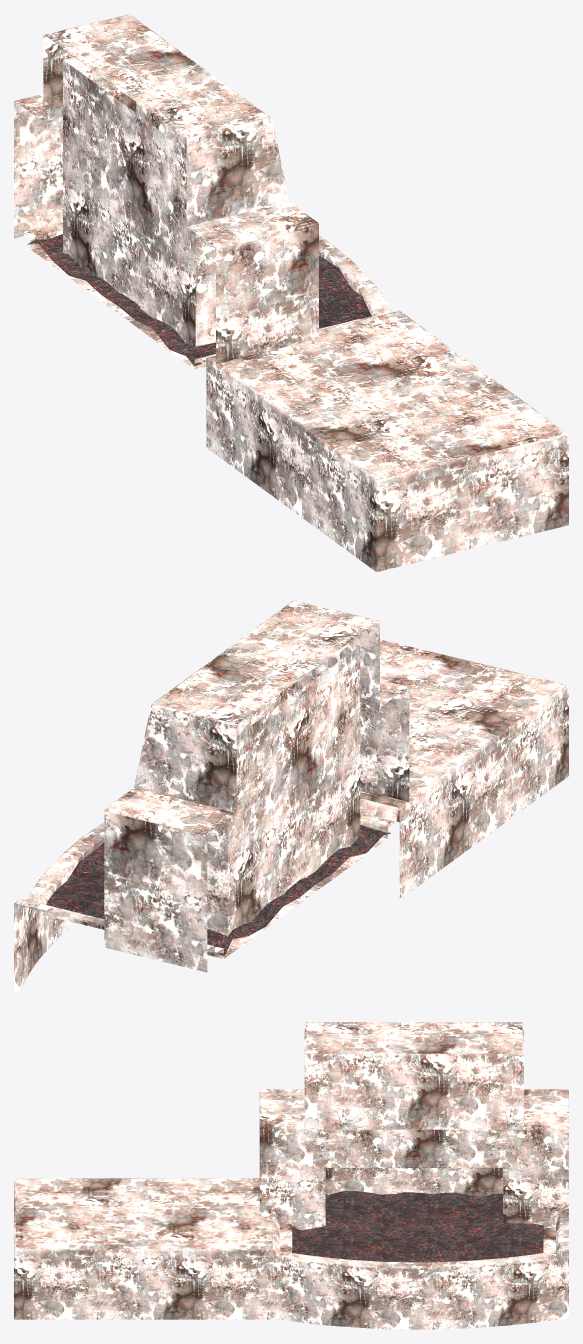
The model's file is SM_blacksmith_fireplace_01.fbx.
3 renders of one model, top to bottom at view 1: azimuth 30°, elevation 25°; view 2: azimuth 150°, elevation 25°; view 3: azimuth 270°, elevation 25°, orthographic. The views are drawn at different scales.
Visible parts, largest first — view 1: SM_blacksmith_fireplace_01_LOD0; view 2: SM_blacksmith_fireplace_01_LOD0; view 3: SM_blacksmith_fireplace_01_LOD0.
Part boxes in pixels (x1,y1,x2,y2): SM_blacksmith_fireplace_01_LOD0: (14,14,568,571); SM_blacksmith_fireplace_01_LOD0: (14,600,568,993); SM_blacksmith_fireplace_01_LOD0: (14,1022,568,1329).
Bounding box in the file's own units: 230 × 650 × 291.
2 materials, 2 textured.
